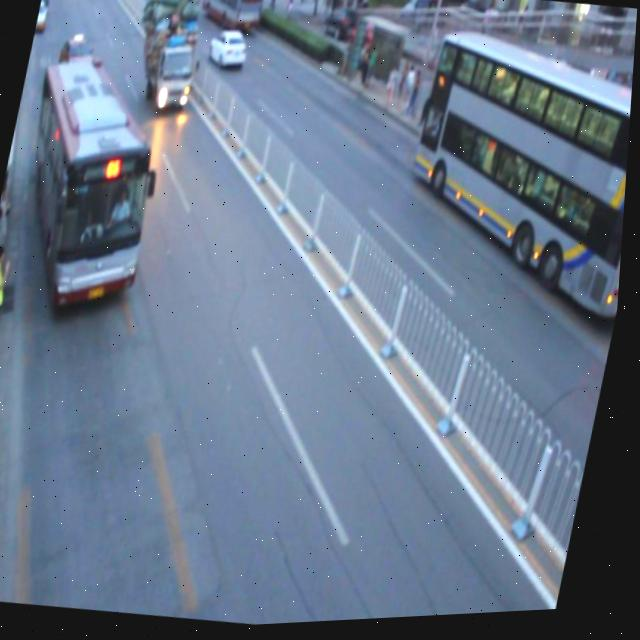bus: (129, 0, 212, 117)
car: (55, 33, 102, 84), (205, 28, 252, 77)
van: (391, 31, 637, 332), (0, 52, 181, 325), (197, 0, 268, 37)
